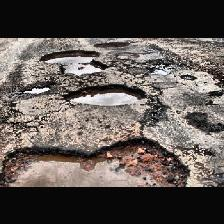pothole: (0, 135, 190, 185), (61, 82, 147, 104), (40, 48, 108, 74), (22, 85, 51, 93), (94, 41, 130, 47)
